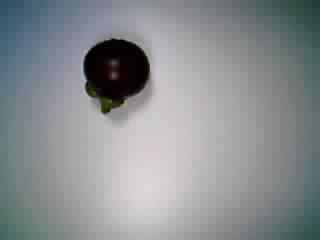mangosteen: (72, 37, 154, 114)
